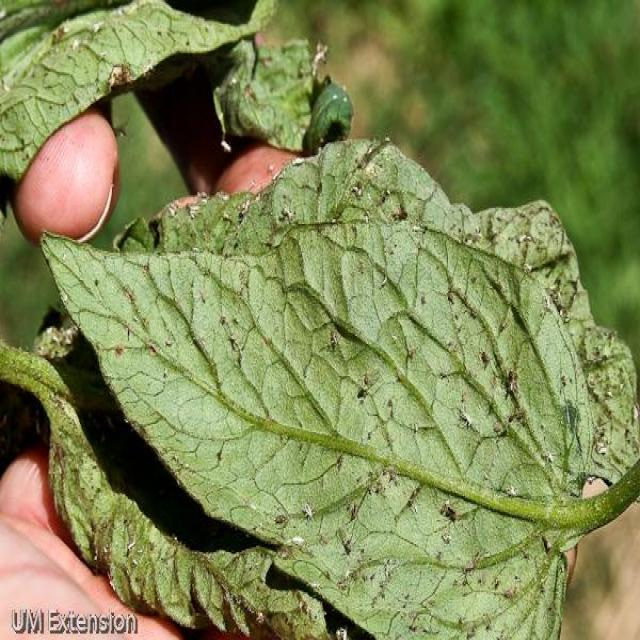Aphids: (340, 327, 417, 562), (452, 282, 548, 466), (336, 562, 554, 640), (86, 439, 206, 569), (223, 43, 351, 153), (100, 283, 190, 393), (162, 576, 318, 638), (150, 195, 292, 258), (438, 204, 568, 258), (208, 264, 262, 372), (588, 344, 636, 460), (262, 488, 322, 558), (389, 156, 428, 249), (340, 138, 380, 220), (34, 16, 108, 57), (550, 265, 584, 331), (50, 436, 90, 492), (434, 484, 472, 532), (78, 66, 146, 90), (270, 181, 295, 235)
